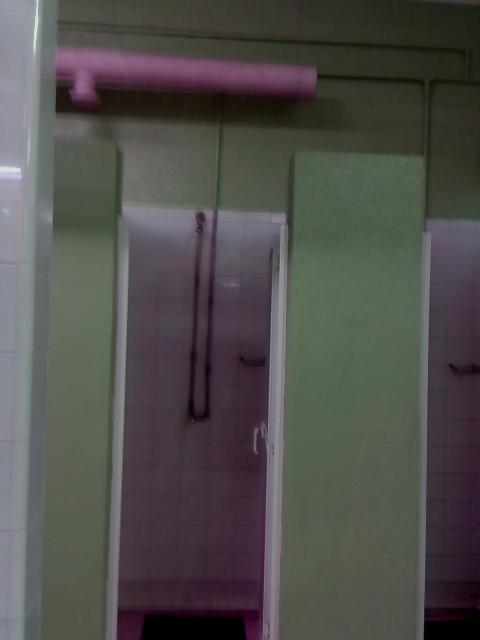open_door: (102, 141, 294, 638)
